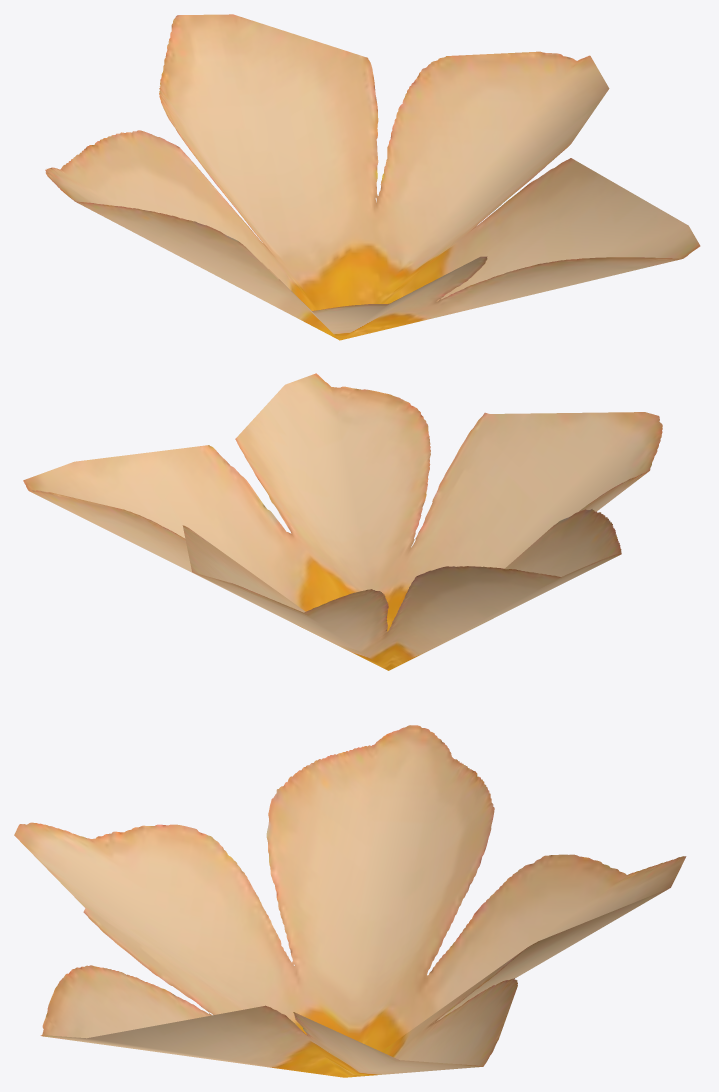
File: Petal_2.glb
3 views of the same model, one above another, from view 1: azimuth 30°, elevation 25°; view 2: azimuth 150°, elevation 25°; view 3: azimuth 270°, elevation 25° (orthographic). The views are drawn at different scales.
Visible parts, largest first — view 1: Petal_2; view 2: Petal_2; view 3: Petal_2.
Boxes of the visible parts, x1,y1,x2,y2 form: Petal_2: [45, 14, 700, 340]; Petal_2: [23, 373, 662, 670]; Petal_2: [14, 725, 686, 1077].
Bounding box in the file's own units: 0.6732 × 0.236 × 0.6311.
Materials: 1 (1 with a texture image).
